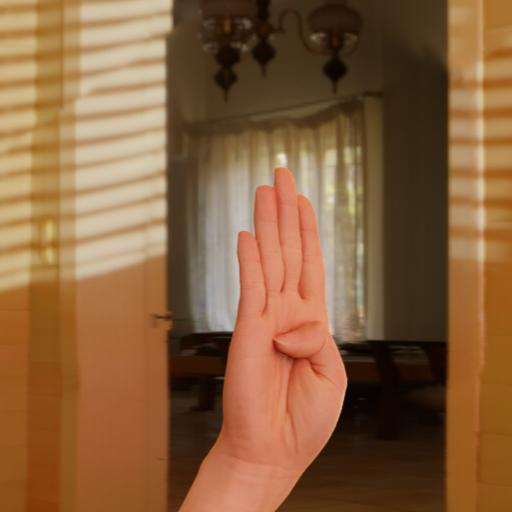B: (215, 162, 354, 486)
